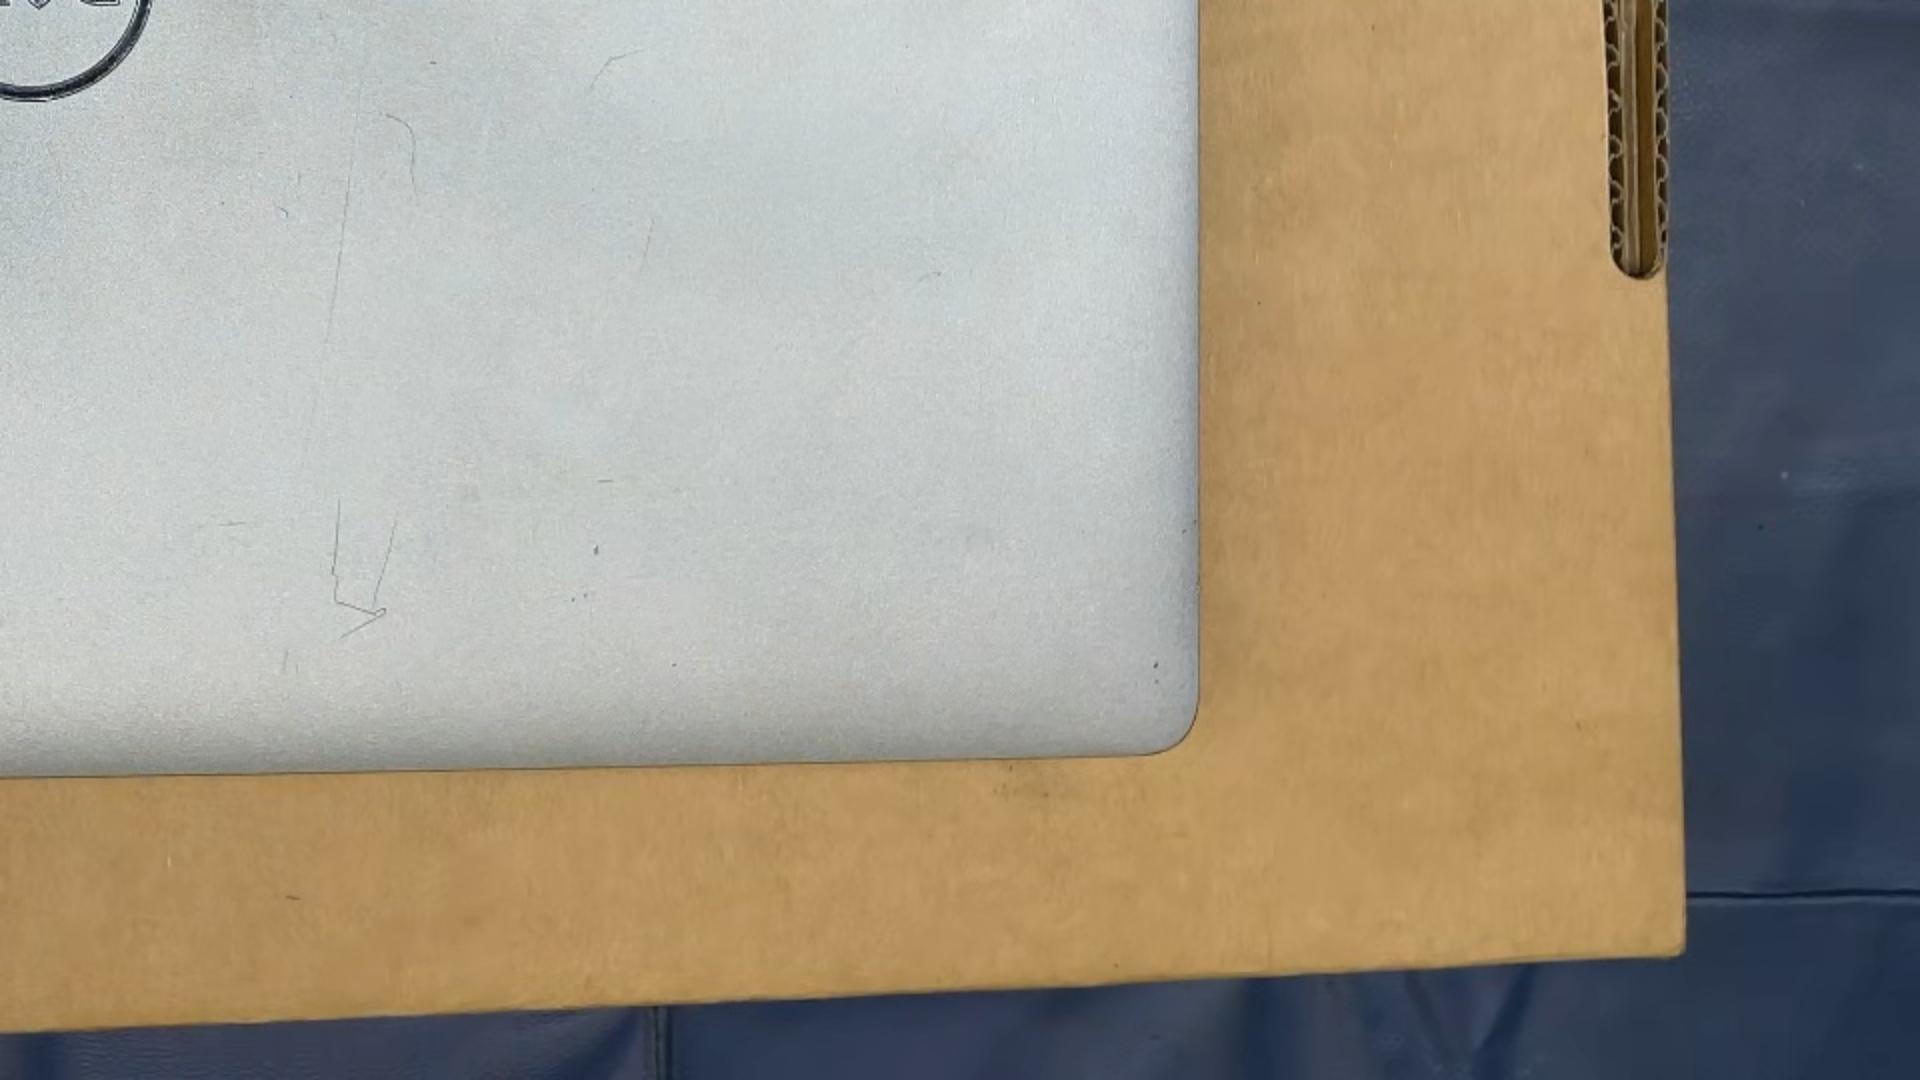scratches: (295, 28, 373, 469), (330, 498, 389, 641), (385, 111, 423, 210), (369, 513, 401, 607), (587, 47, 645, 91), (215, 521, 248, 527), (597, 477, 616, 484)
